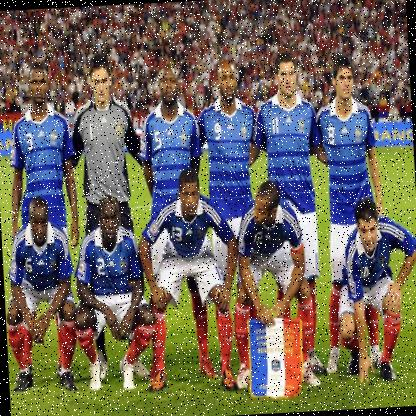fr: (248, 316, 304, 400)
